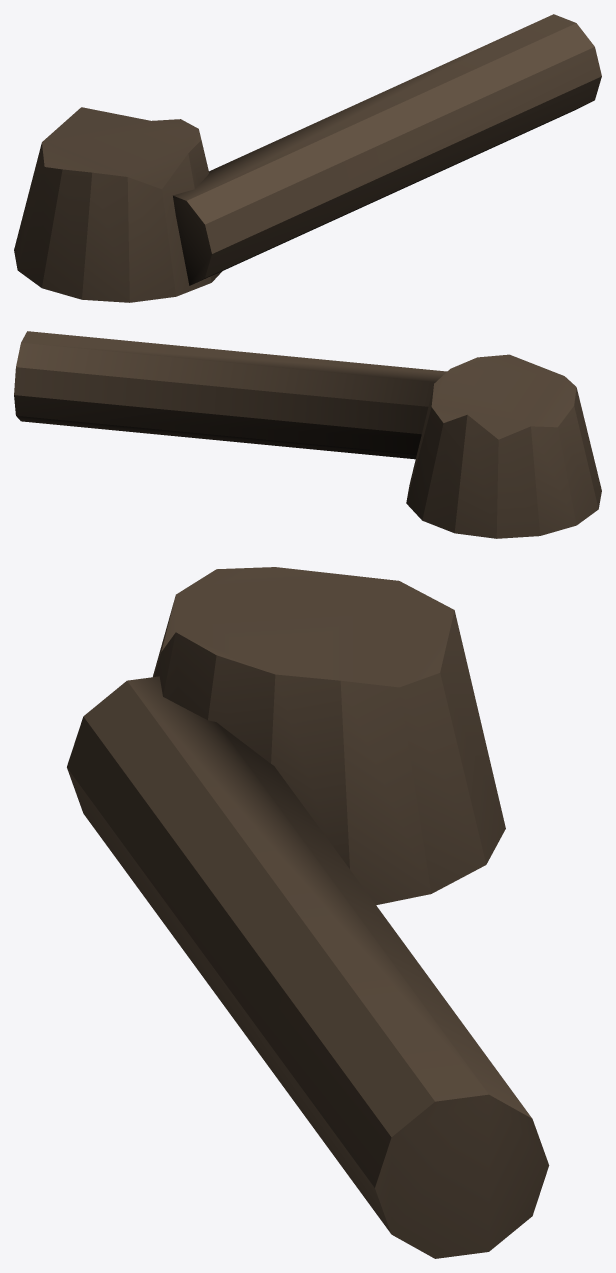
File: stump.glb
3 views of the same model, one above another, from view 1: azimuth 30°, elevation 25°; view 2: azimuth 150°, elevation 25°; view 3: azimuth 270°, elevation 25° (orthographic). The views are drawn at different scales.
Parts seen in each view (by area): view 1: stump; view 2: stump; view 3: stump.
Part boxes in pixels (x1,y1,x2,y2): stump: (14, 14, 601, 302); stump: (14, 331, 601, 538); stump: (67, 567, 549, 1258).
Size of the model in its own units: 3.8 by 0.756 by 1.48.
